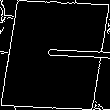L_W: (4, 37, 106, 73)
